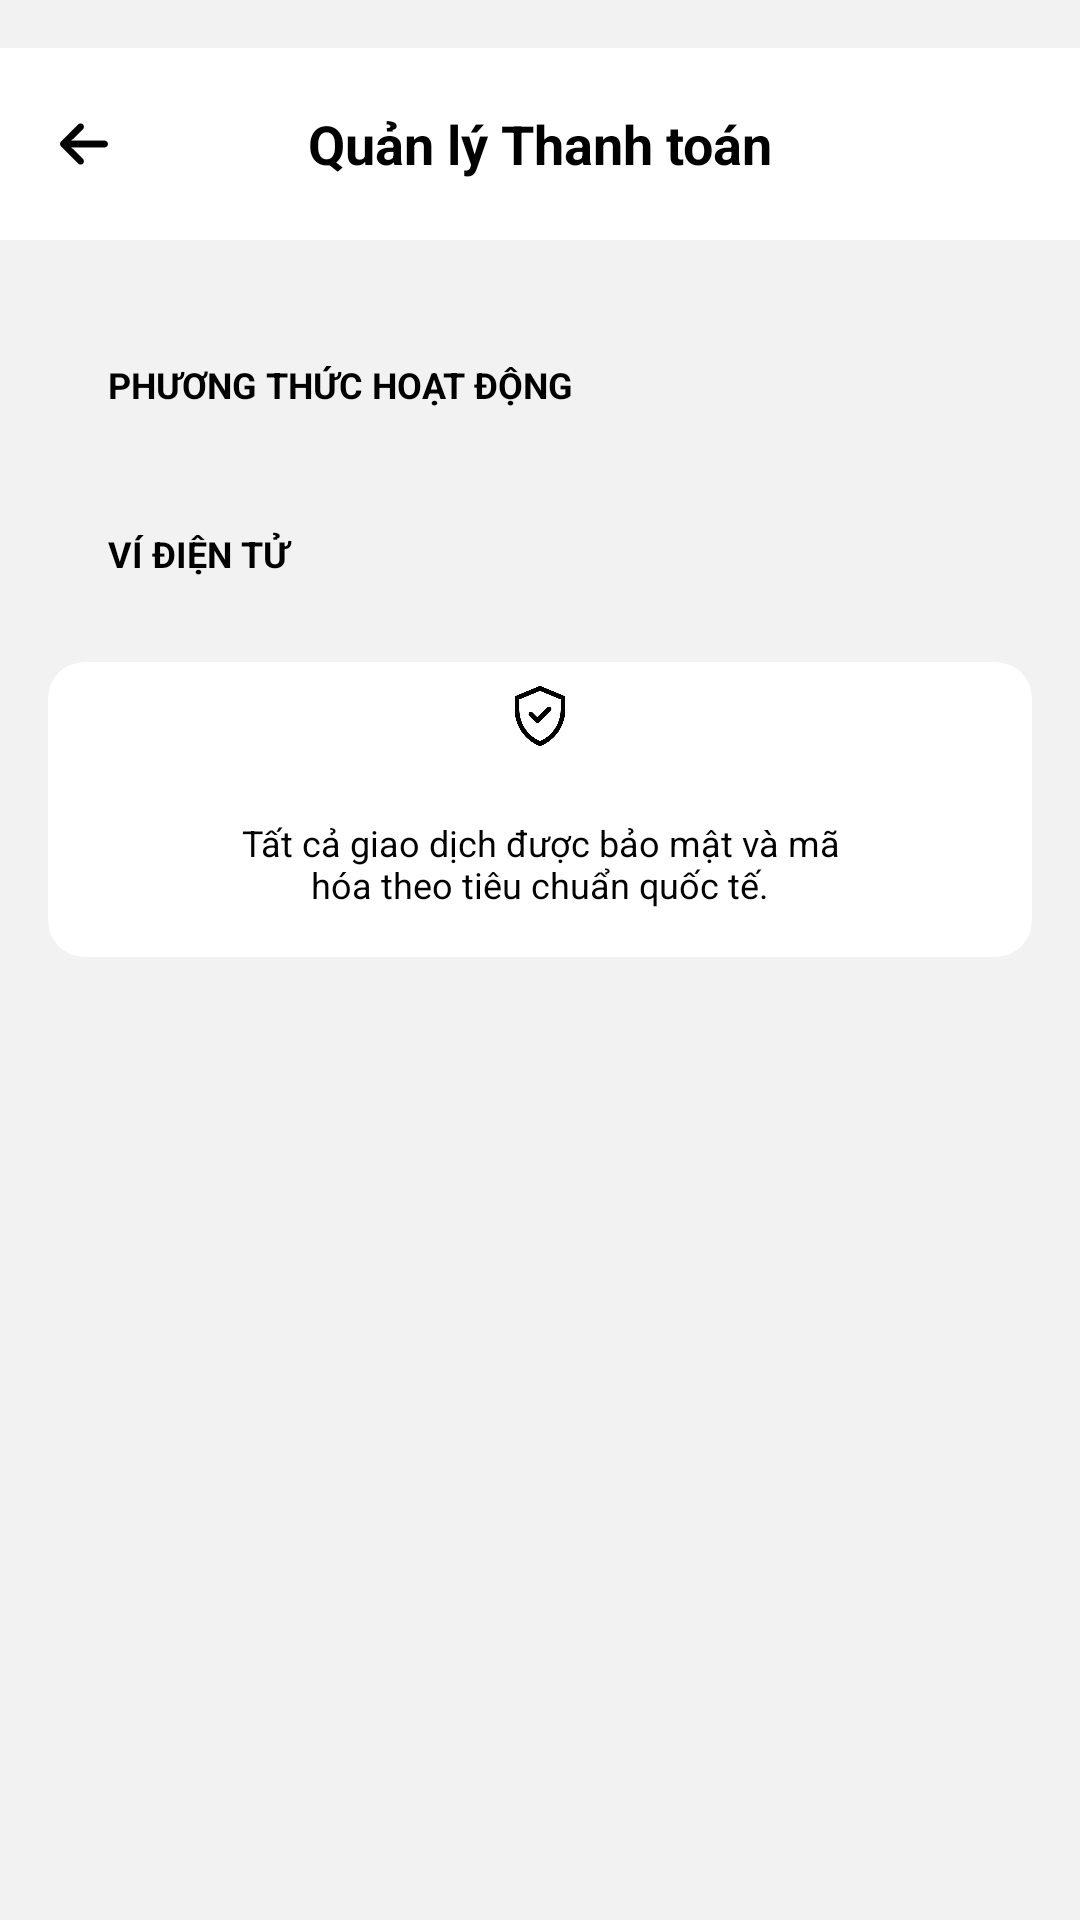

Where to tap for icons on this 1080px x 1920px app screen, as (x,y):
bao mat: (540,716)
